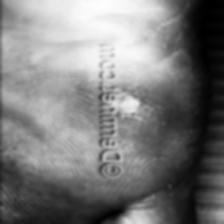Toxin: (119, 87, 146, 119)
